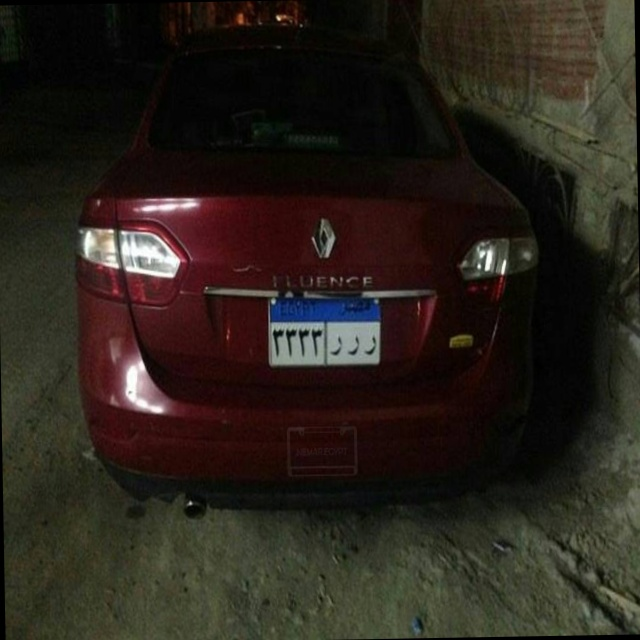License Plate: (265, 291, 384, 372)
